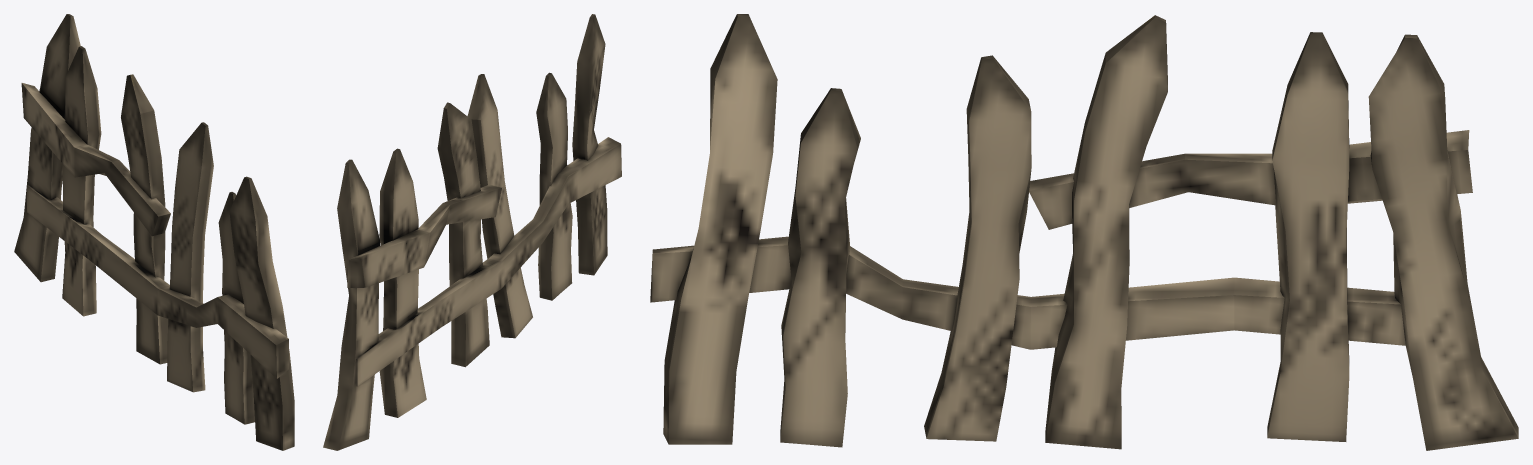
Rendered from PickettFence_01.fbx.
3 views of the same model, side by side, from view 1: azimuth 30°, elevation 25°; view 2: azimuth 150°, elevation 25°; view 3: azimuth 270°, elevation 25° (orthographic). The views are drawn at different scales.
Visible parts, largest first — view 1: PickettFence_01; view 2: PickettFence_01; view 3: PickettFence_01.
Part boxes in pixels (left/top/right/bottom): PickettFence_01: left=14, top=14, right=294, bottom=450; PickettFence_01: left=323, top=14, right=621, bottom=450; PickettFence_01: left=650, top=14, right=1518, bottom=450.
Size of the model in its own units: 12.5 by 69.71 by 128.
